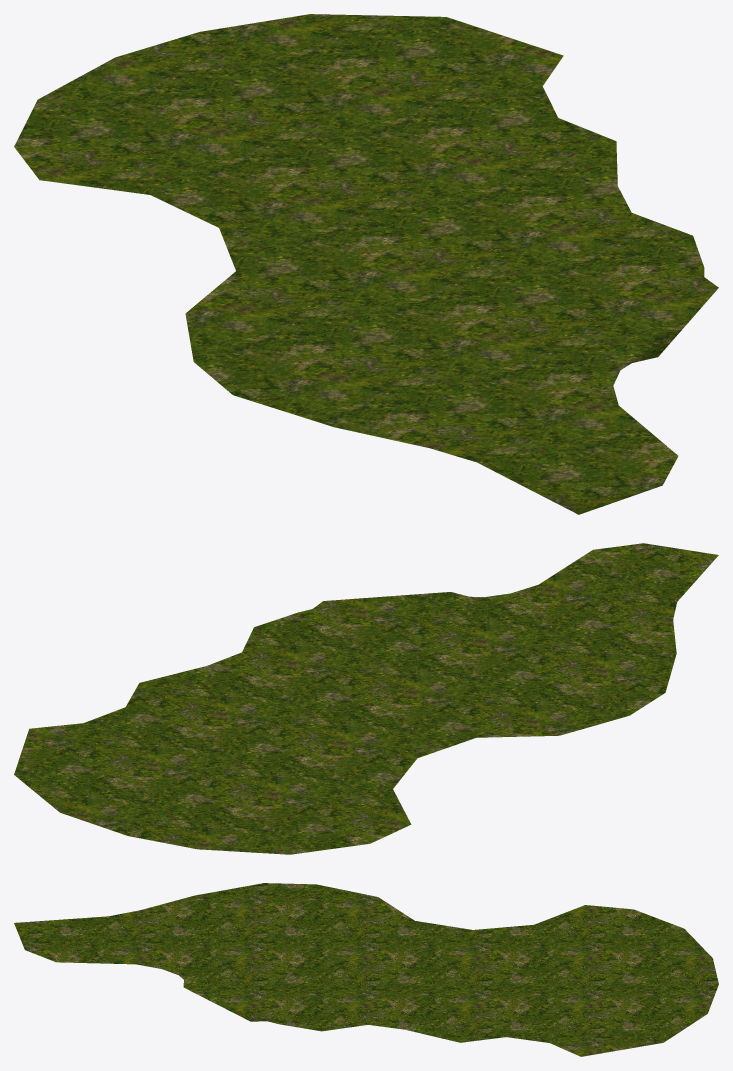
The model's file is OVERHILL_A_01_PROXY_LINE08.fbx.
3 renders of one model, top to bottom at view 1: azimuth 30°, elevation 25°; view 2: azimuth 150°, elevation 25°; view 3: azimuth 270°, elevation 25°, orthographic. The views are drawn at different scales.
Visible parts, largest first — view 1: OVERHILL_A_01_PROXY_LINE08; view 2: OVERHILL_A_01_PROXY_LINE08; view 3: OVERHILL_A_01_PROXY_LINE08.
Boxes of the visible parts, box(x1,y1,x2,y2) form: OVERHILL_A_01_PROXY_LINE08: box(14, 14, 718, 514); OVERHILL_A_01_PROXY_LINE08: box(14, 543, 718, 854); OVERHILL_A_01_PROXY_LINE08: box(14, 883, 718, 1056).
Bounding box in the file's own units: 73193 × 0.0215 × 125408.
1 material, 1 textured.
